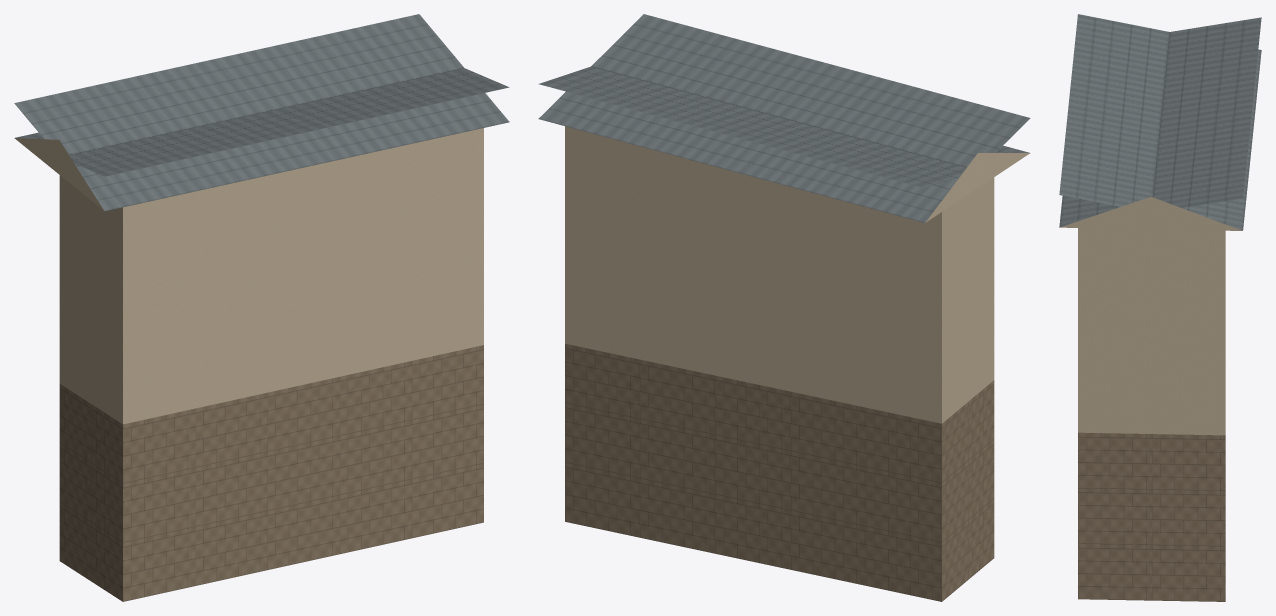
The model's file is bld_c-13_41_531.gltf.
3 renders of one model, left to right at view 1: azimuth 30°, elevation 25°; view 2: azimuth 150°, elevation 25°; view 3: azimuth 270°, elevation 25°, orthographic. The views are drawn at different scales.
Visible parts, largest first — view 1: bld_c-13_41_531; view 2: bld_c-13_41_531; view 3: bld_c-13_41_531.
Boxes of the visible parts, bbox=[...] form: bld_c-13_41_531: bbox=[14, 14, 509, 601]; bld_c-13_41_531: bbox=[538, 14, 1030, 601]; bld_c-13_41_531: bbox=[1059, 14, 1261, 601].
Size of the model in its own units: 12.11 by 12.6 by 5.61.
4 materials, 4 textured.
